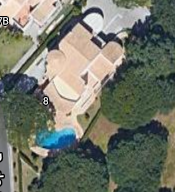pool: (35, 128, 73, 146)
